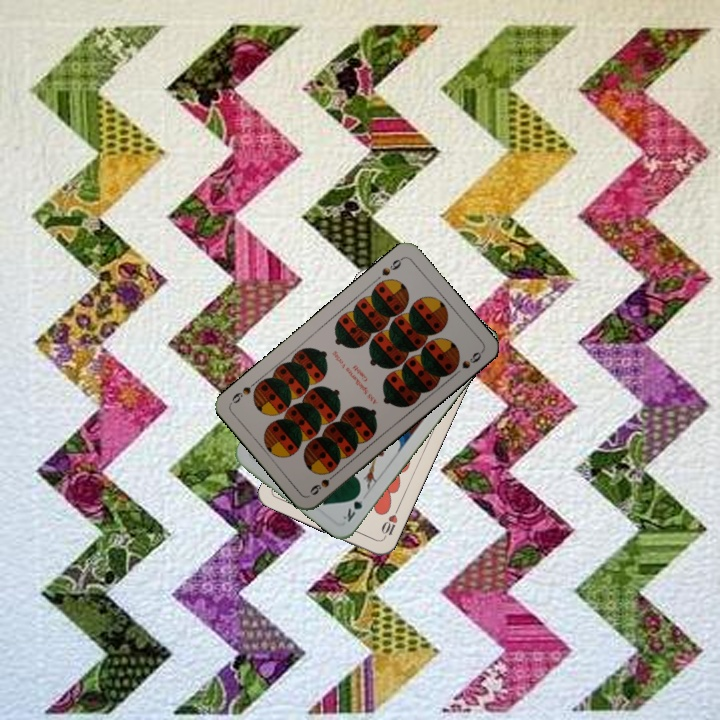GK: (338, 487, 365, 524)
H10: (377, 504, 402, 542)
S9: (306, 468, 340, 498), (378, 253, 406, 278)
